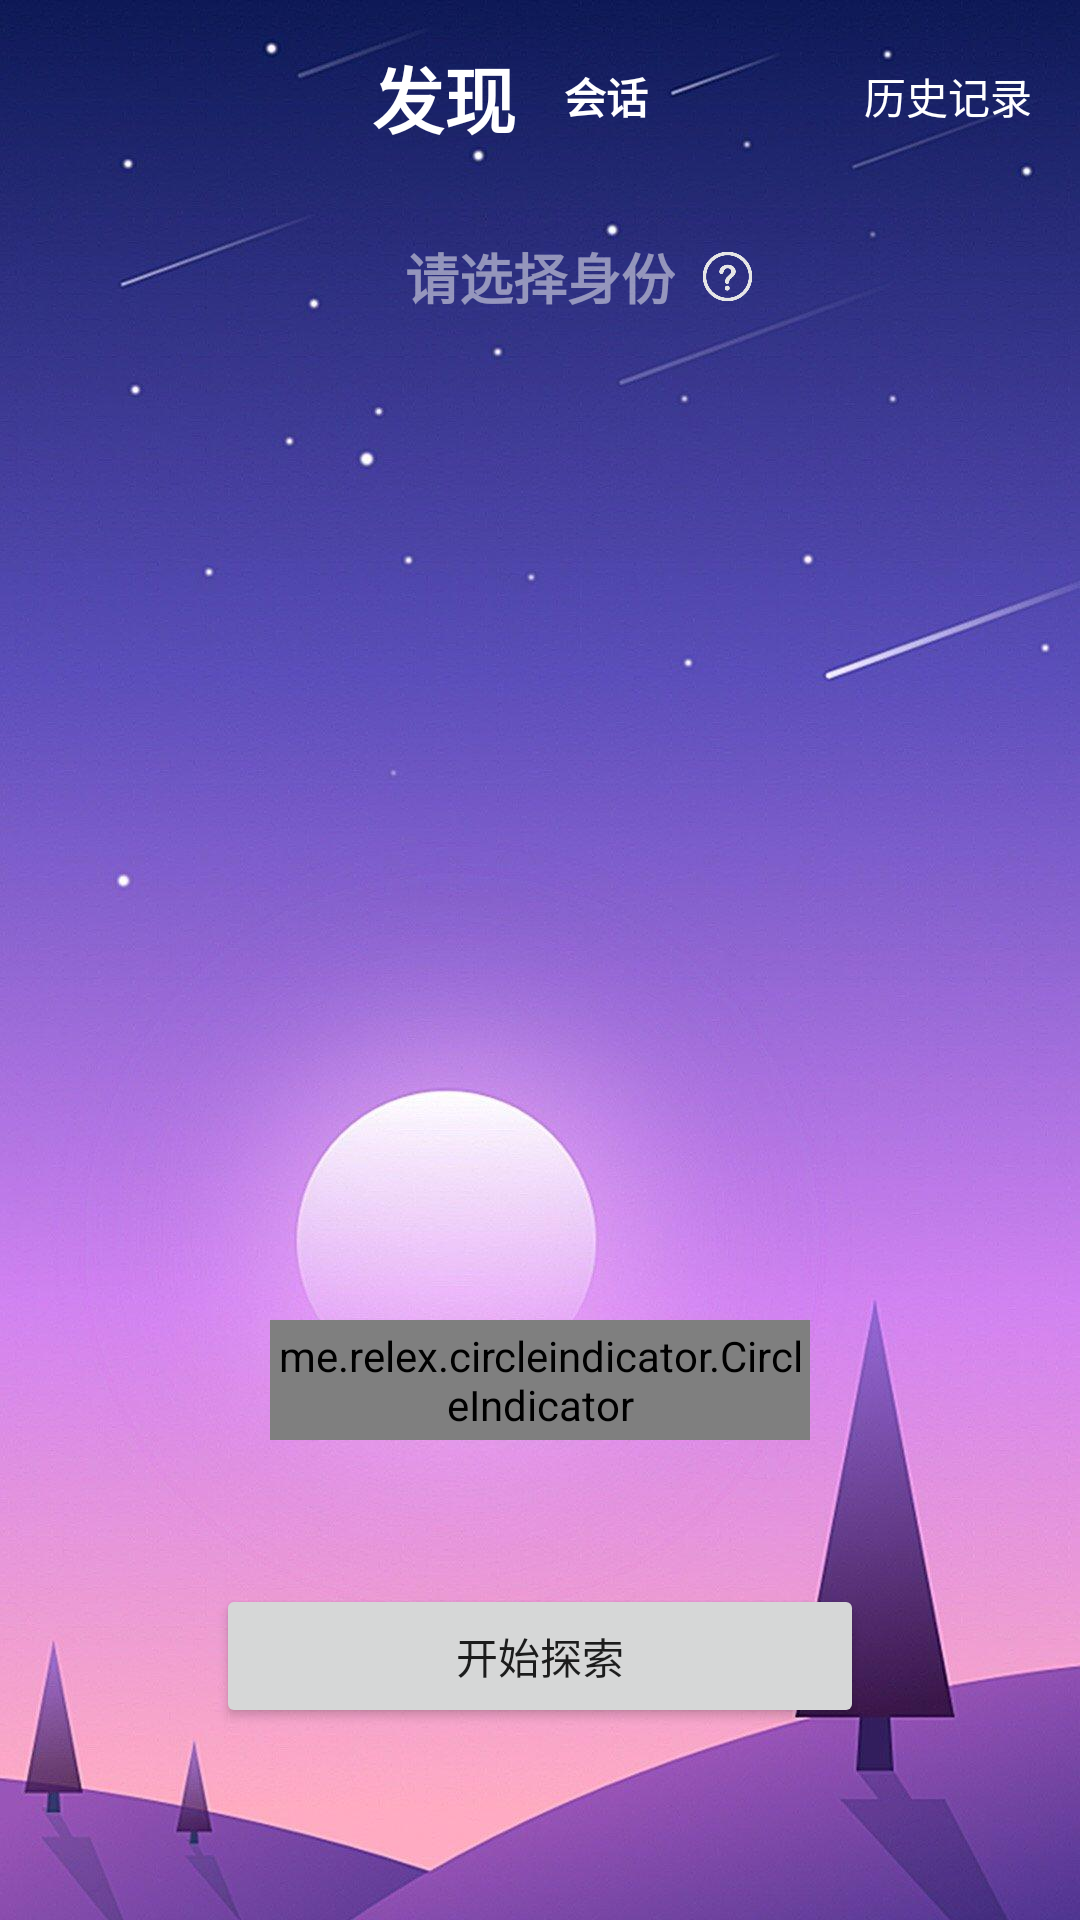

Icons on this 1080px x 1920px Android screen, each with its box as BBox(x1, y1, x2, y2):
wenti: BBox(703, 252, 752, 301)
